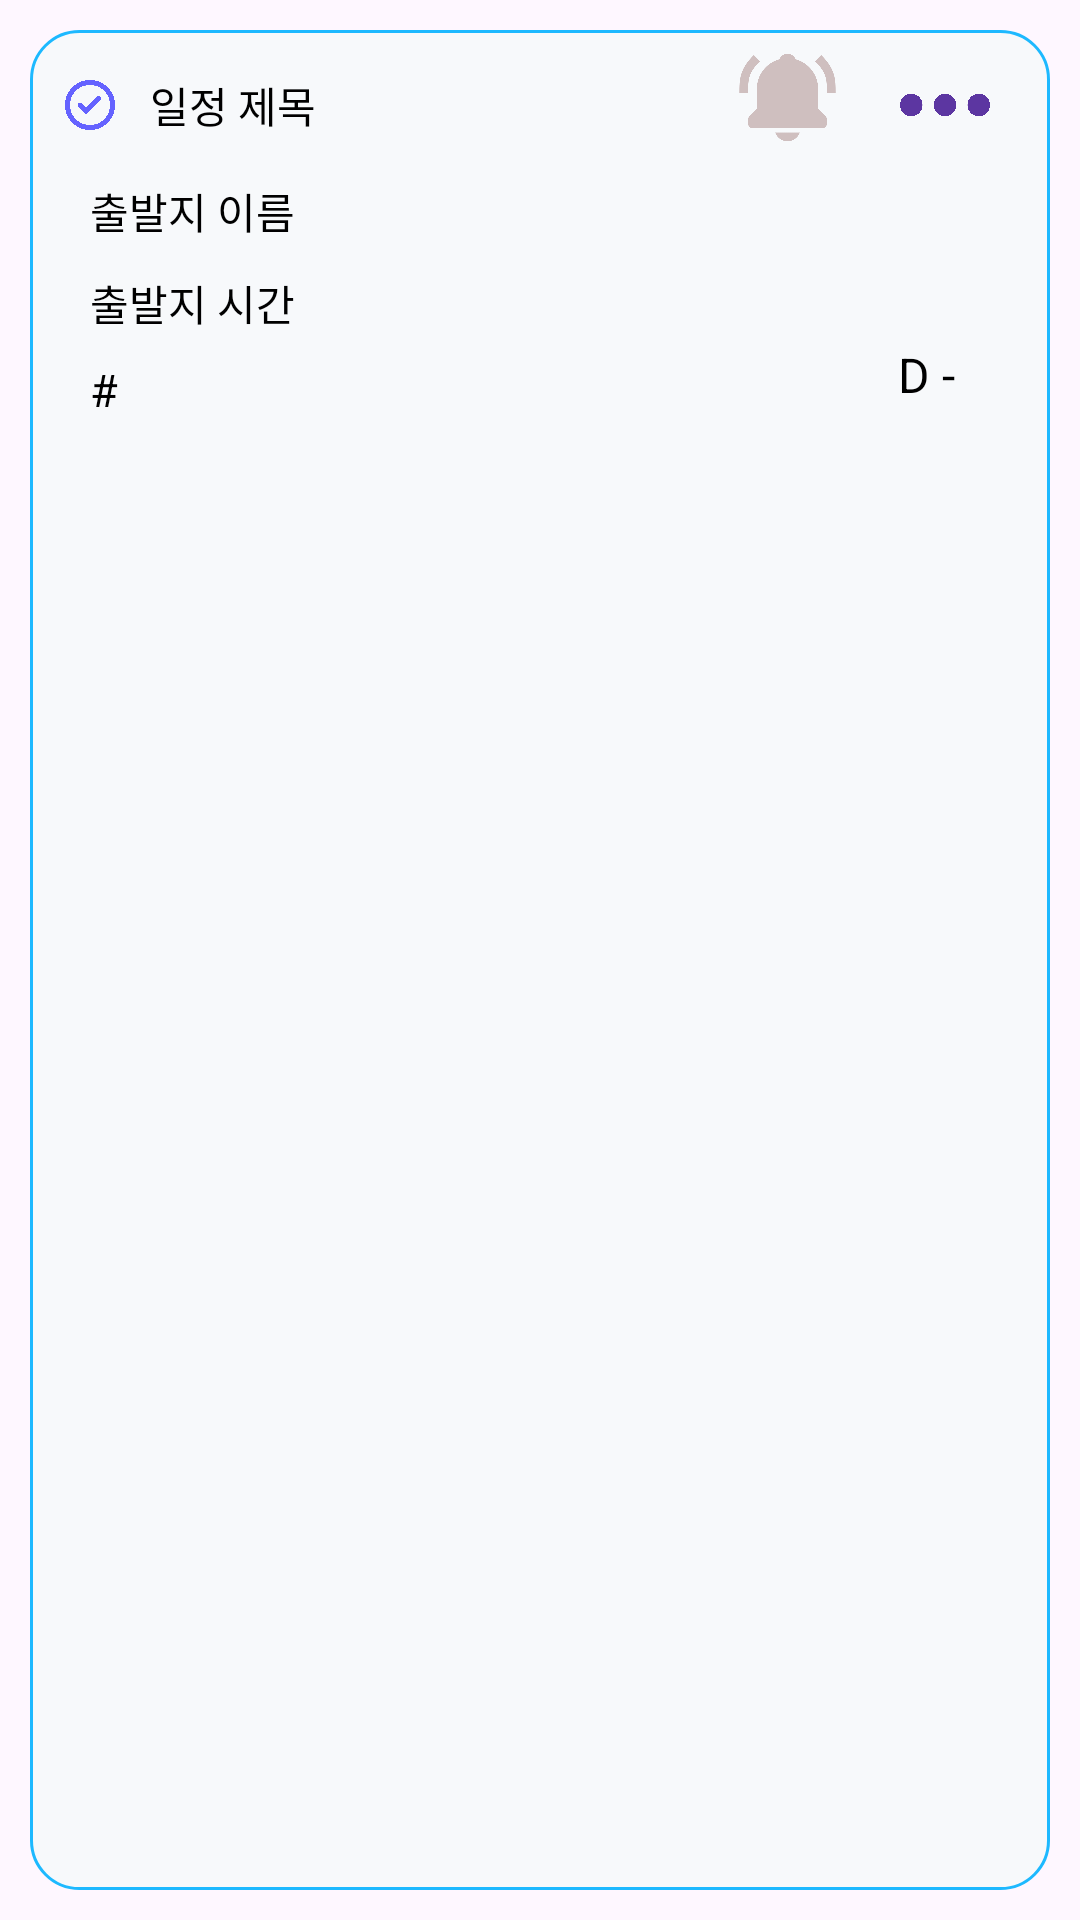

Icons on this 1080px×1920px Android screen, each with its box as rect(x1, y1, x2, y2):
check: rect(65, 80, 115, 130)
dots: rect(900, 94, 990, 116)
